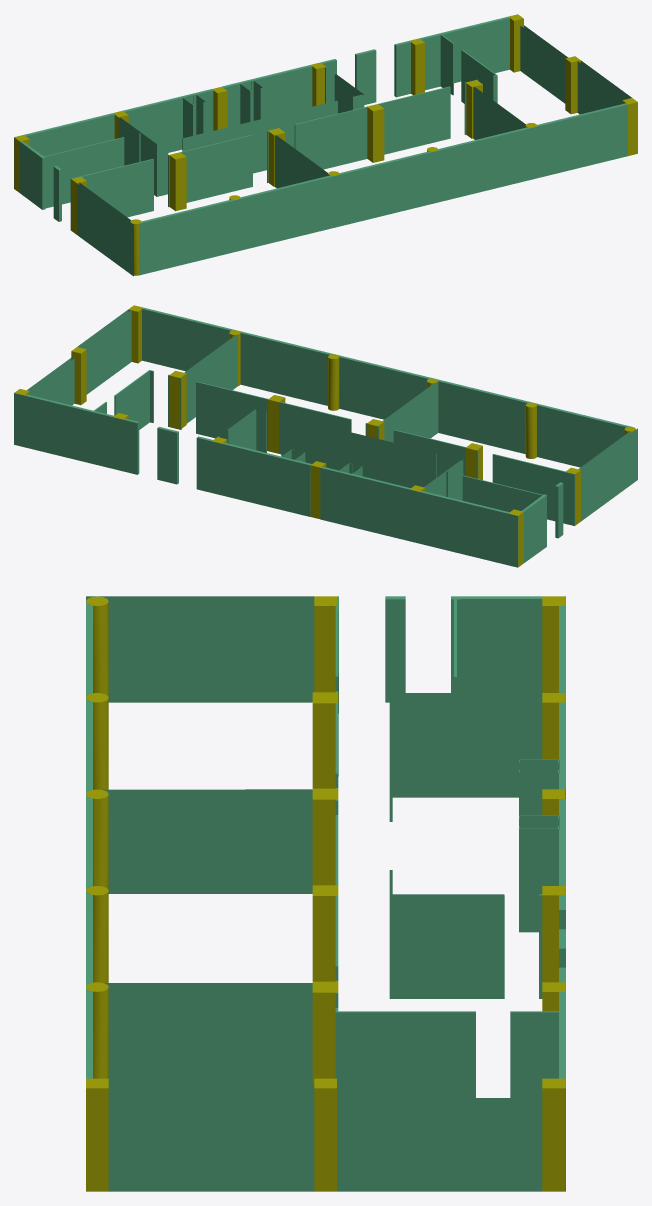
The model's file is AR04-21-modified-extruded-no-floor.fbx.
3 views of the same model, one above another, from view 1: azimuth 30°, elevation 25°; view 2: azimuth 150°, elevation 25°; view 3: azimuth 270°, elevation 25° (orthographic). The views are drawn at different scales.
Parts seen in each view (by area): view 1: 3D Solid (×36), EXTRUDEDSURFACE (×8); view 2: 3D Solid (×30), EXTRUDEDSURFACE (×8); view 3: EXTRUDEDSURFACE (×7), 3D Solid (×22).
Part boxes in pixels (x1,y1,x2,y2): 3D Solid (×36): (14, 14, 637, 275); EXTRUDEDSURFACE (×8): (77, 25, 631, 276); 3D Solid (×30): (14, 305, 630, 567); EXTRUDEDSURFACE (×8): (27, 309, 637, 521); EXTRUDEDSURFACE (×7): (86, 596, 542, 1191); 3D Solid (×22): (86, 596, 565, 1191).
Size of the model in its own units: 40825 by 16825 by 4000.
